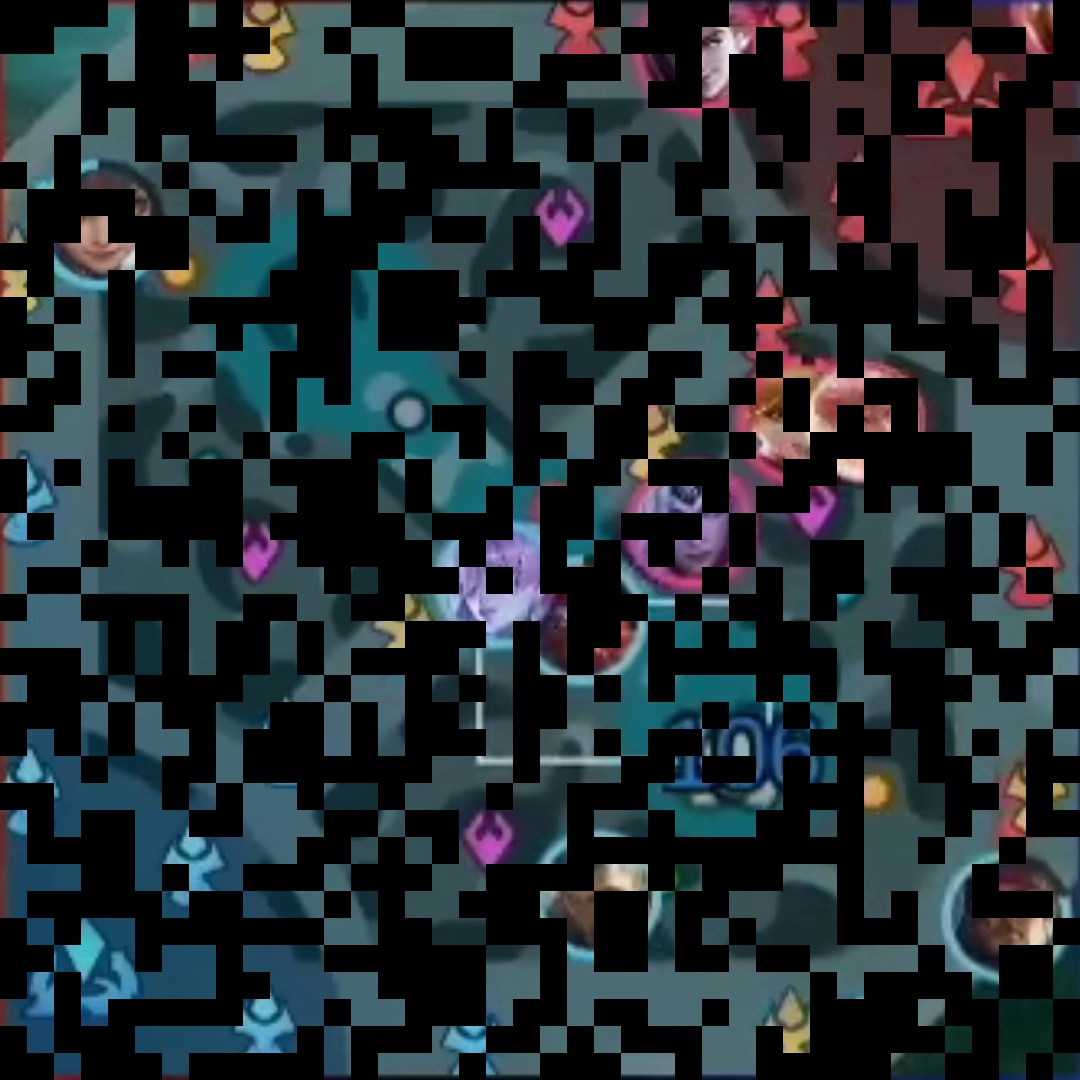Chou: (823, 379, 908, 467)
Claude: (657, 8, 736, 96)
Fanny: (751, 378, 815, 470)
Fredrinn: (555, 857, 640, 946)
Lapu-Lapu: (968, 866, 1049, 960)
Minotaur: (550, 579, 623, 673)
Novaria: (452, 538, 536, 630)
Valentina: (648, 478, 733, 573)
Wanwan: (58, 178, 151, 270)
